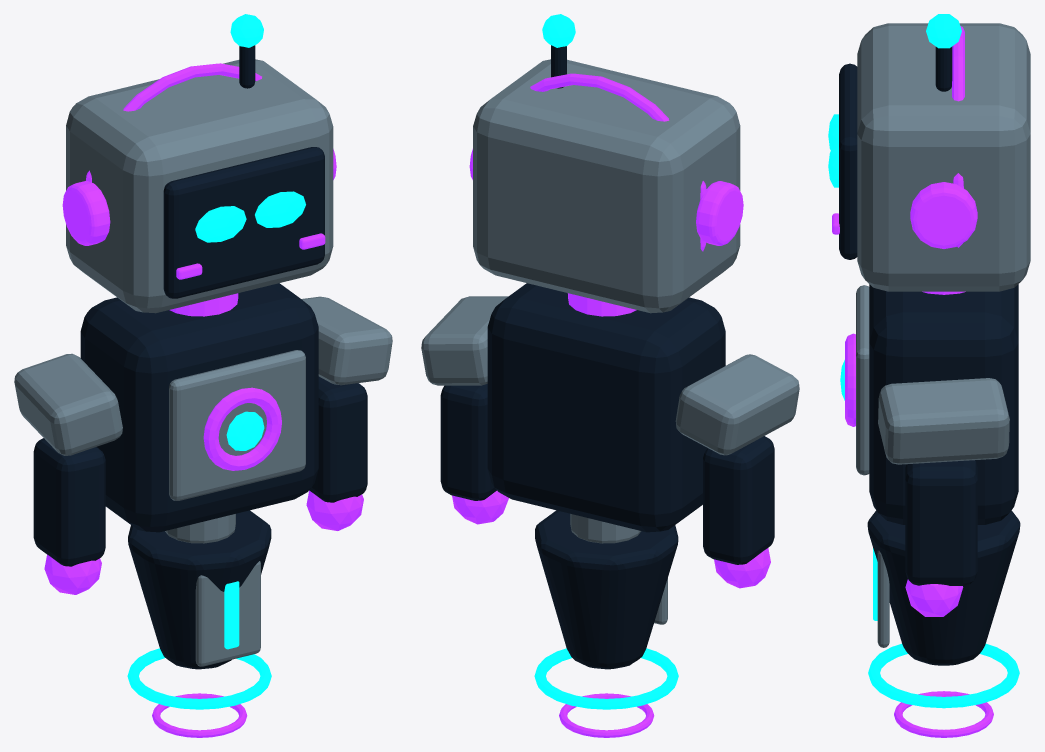
Rendered from EVA_Animation_Library.glb.
3 views of the same model, side by side, from view 1: azimuth 30°, elevation 25°; view 2: azimuth 150°, elevation 25°; view 3: azimuth 270°, elevation 25° (orthographic). The views are drawn at different scales.
Visible parts, largest first — view 1: EVA_V3_HeadShell, EVA_V3_Torso, EVA_V3_Faceplate, EVA_V3_ChestShell, EVA_V3_LowerShell, EVA_V3_Forearm_L, EVA_V3_Shoulder_L, EVA_V3_Forearm_R, EVA_V3_Shoulder_R, EVA_V3_LowerPanel, EVA_V3_ChestRing, EVA_V3_FloatRing_A (+13 smaller); view 2: EVA_V3_HeadShell, EVA_V3_Torso, EVA_V3_LowerShell, EVA_V3_Shoulder_L, EVA_V3_Forearm_L, EVA_V3_Forearm_R, EVA_V3_Shoulder_R, EVA_V3_FloatRing_A, EVA_V3_Ear_L, EVA_V3_Halo, EVA_V3_Waist, EVA_V3_FloatRing_B (+4 smaller); view 3: EVA_V3_HeadShell, EVA_V3_Torso, EVA_V3_Shoulder_R, EVA_V3_LowerShell, EVA_V3_Forearm_R, EVA_V3_Faceplate, EVA_V3_Ear_R, EVA_V3_FloatRing_A, EVA_V3_ChestShell, EVA_V3_Hand_R, EVA_V3_FloatRing_B, EVA_V3_LowerPanel (+5 smaller).
Part boxes in pixels (<box>): EVA_V3_HeadShell: <box>66,59,333,313</box>; EVA_V3_Torso: <box>80,283,318,532</box>; EVA_V3_Faceplate: <box>163,147,324,298</box>; EVA_V3_ChestShell: <box>169,350,305,500</box>; EVA_V3_LowerShell: <box>128,510,271,669</box>; EVA_V3_Forearm_L: <box>33,438,105,566</box>; EVA_V3_Shoulder_L: <box>14,353,122,455</box>; EVA_V3_Forearm_R: <box>309,376,367,502</box>; EVA_V3_Shoulder_R: <box>301,296,392,385</box>; EVA_V3_LowerPanel: <box>195,561,260,666</box>; EVA_V3_ChestRing: <box>203,387,281,470</box>; EVA_V3_FloatRing_A: <box>127,648,271,709</box>; EVA_V3_HeadShell: <box>473,59,740,313</box>; EVA_V3_Torso: <box>487,283,725,532</box>; EVA_V3_LowerShell: <box>535,510,678,669</box>; EVA_V3_Shoulder_L: <box>675,354,799,455</box>; EVA_V3_Forearm_L: <box>703,436,774,564</box>; EVA_V3_Forearm_R: <box>440,384,496,500</box>; EVA_V3_Shoulder_R: <box>421,296,508,385</box>; EVA_V3_FloatRing_A: <box>534,648,678,709</box>; EVA_V3_Ear_L: <box>696,181,743,245</box>; EVA_V3_Halo: <box>530,73,706,307</box>; EVA_V3_Waist: <box>570,514,641,543</box>; EVA_V3_FloatRing_B: <box>559,693,654,737</box>; EVA_V3_HeadShell: <box>857,23,1030,291</box>; EVA_V3_Torso: <box>869,284,1018,524</box>; EVA_V3_Shoulder_R: <box>878,378,1009,464</box>; EVA_V3_LowerShell: <box>867,510,1020,665</box>; EVA_V3_Forearm_R: <box>905,460,977,585</box>; EVA_V3_Faceplate: <box>839,63,857,259</box>; EVA_V3_Ear_R: <box>910,182,977,248</box>; EVA_V3_FloatRing_A: <box>868,643,1019,708</box>; EVA_V3_ChestShell: <box>856,285,869,475</box>; EVA_V3_Hand_R: <box>905,579,963,616</box>; EVA_V3_FloatRing_B: <box>894,691,993,737</box>; EVA_V3_LowerPanel: <box>877,550,889,647</box>.
Bounding box in the file's own units: 1.71 × 3.33 × 0.84.
